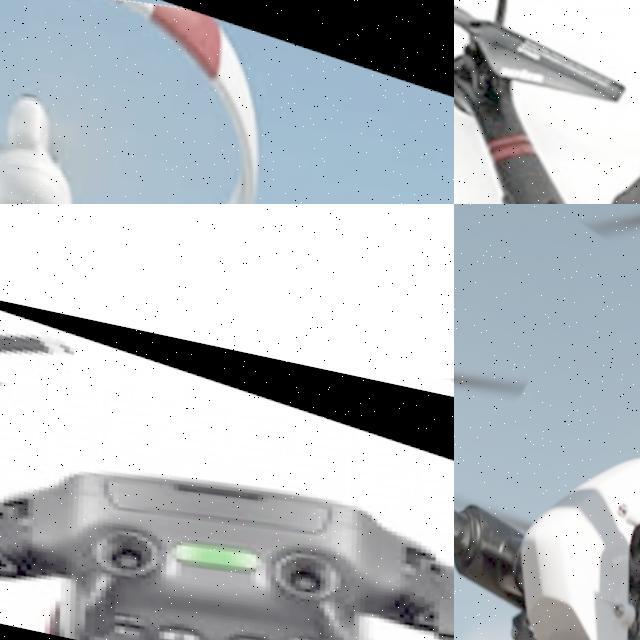drone: (0, 281, 454, 640), (0, 0, 454, 204), (454, 204, 640, 640), (454, 0, 640, 204)
